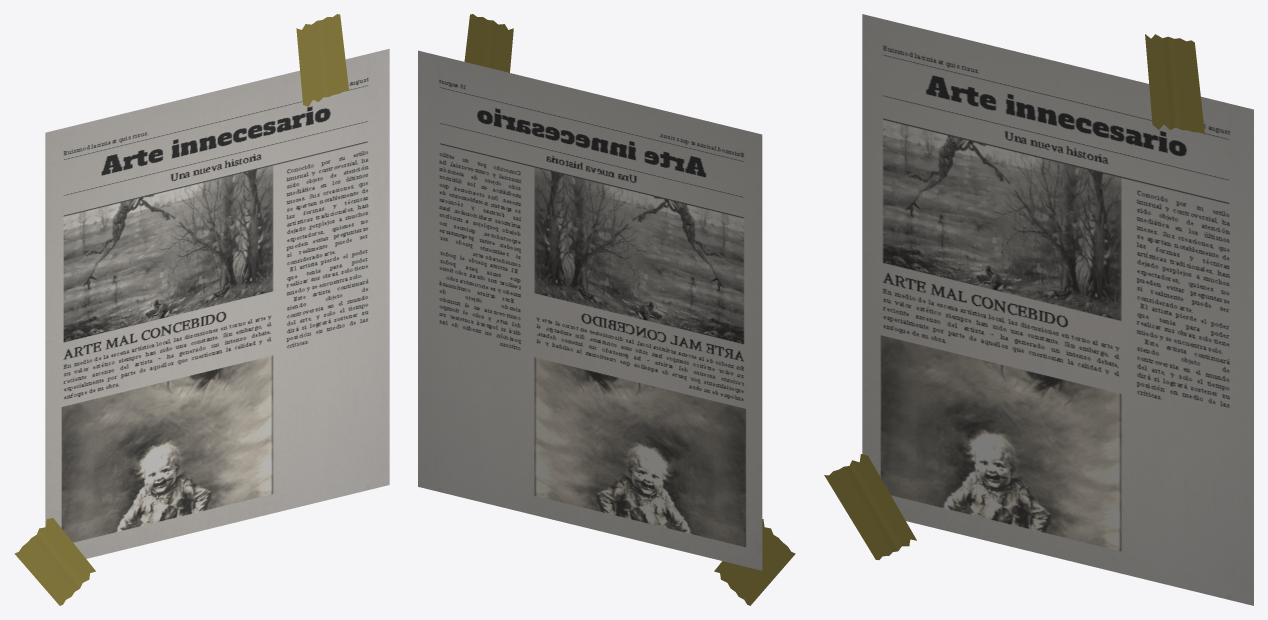
File: Diario8.fbx
The picture shows the model from 3 angles, left to right: view 1: azimuth 30°, elevation 25°; view 2: azimuth 150°, elevation 25°; view 3: azimuth 330°, elevation 25°; orthographic projection. The views are drawn at different scales.
Visible parts, largest first — view 1: Plane.005, Plane.001, Plane.002; view 2: Plane.005, Plane.002, Plane.001; view 3: Plane.005, Plane.001, Plane.002.
Boxes of the visible parts, x1,y1,x2,y2 form: Plane.005: [45, 48, 389, 558]; Plane.001: [296, 14, 348, 106]; Plane.002: [14, 518, 95, 605]; Plane.005: [418, 50, 762, 570]; Plane.002: [714, 519, 795, 605]; Plane.001: [464, 14, 513, 72]; Plane.005: [862, 14, 1253, 605]; Plane.001: [1145, 34, 1204, 134]; Plane.002: [824, 454, 916, 559].
Size of the model in its own units: 239 by 318 by 1.55.
3 materials, 1 textured.
